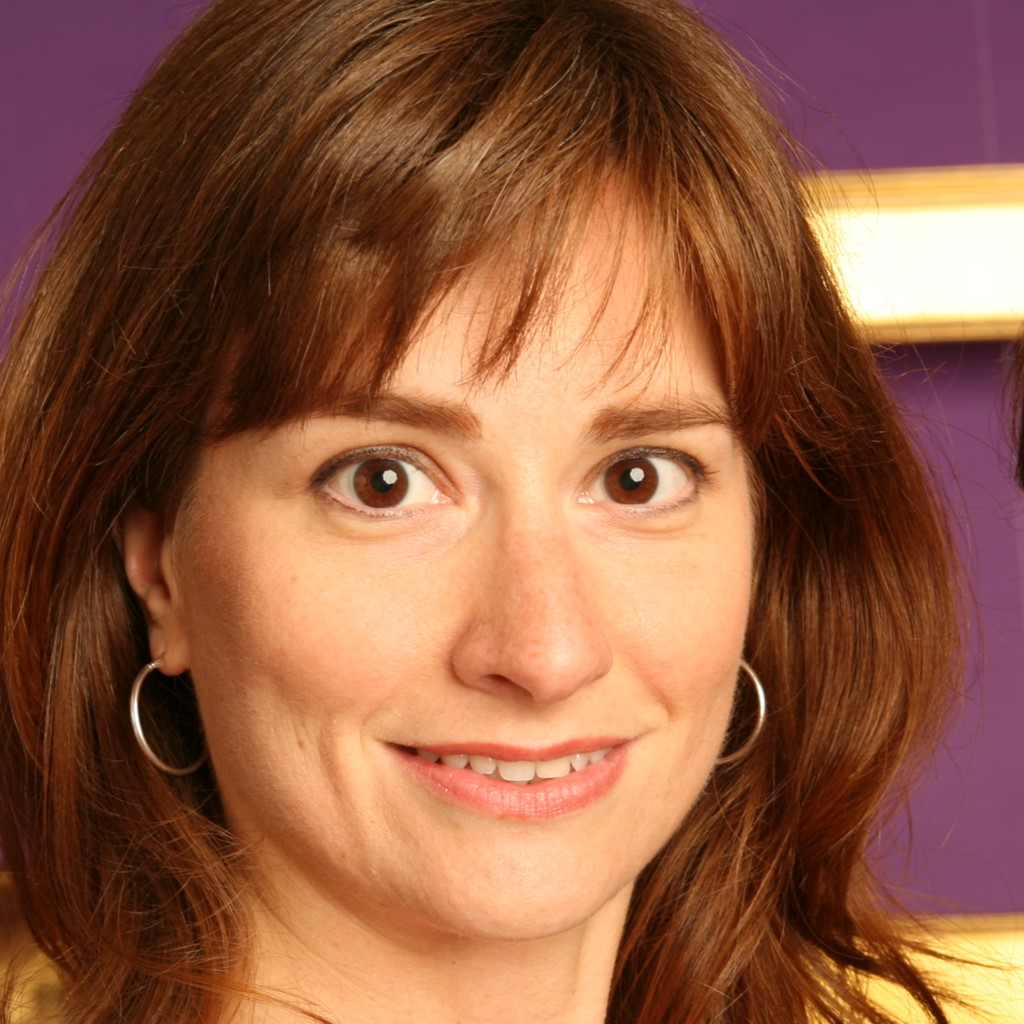sin_mascara: (142, 133, 752, 950)
